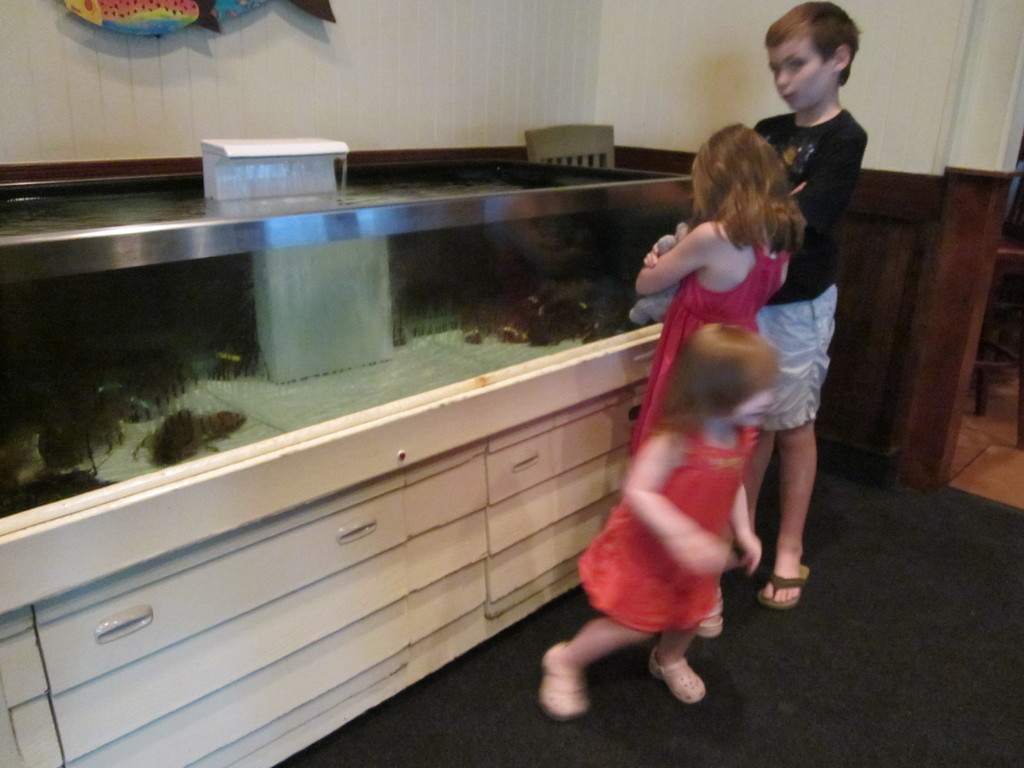handle: (91, 604, 156, 633), (327, 514, 379, 548), (505, 449, 538, 469)
